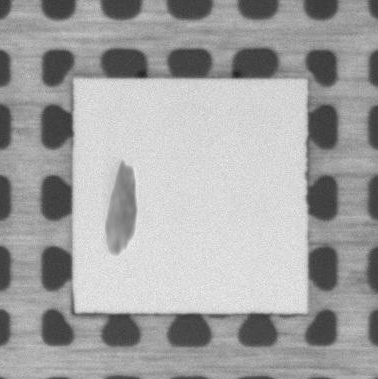DIE_INK: (103, 157, 140, 254)
